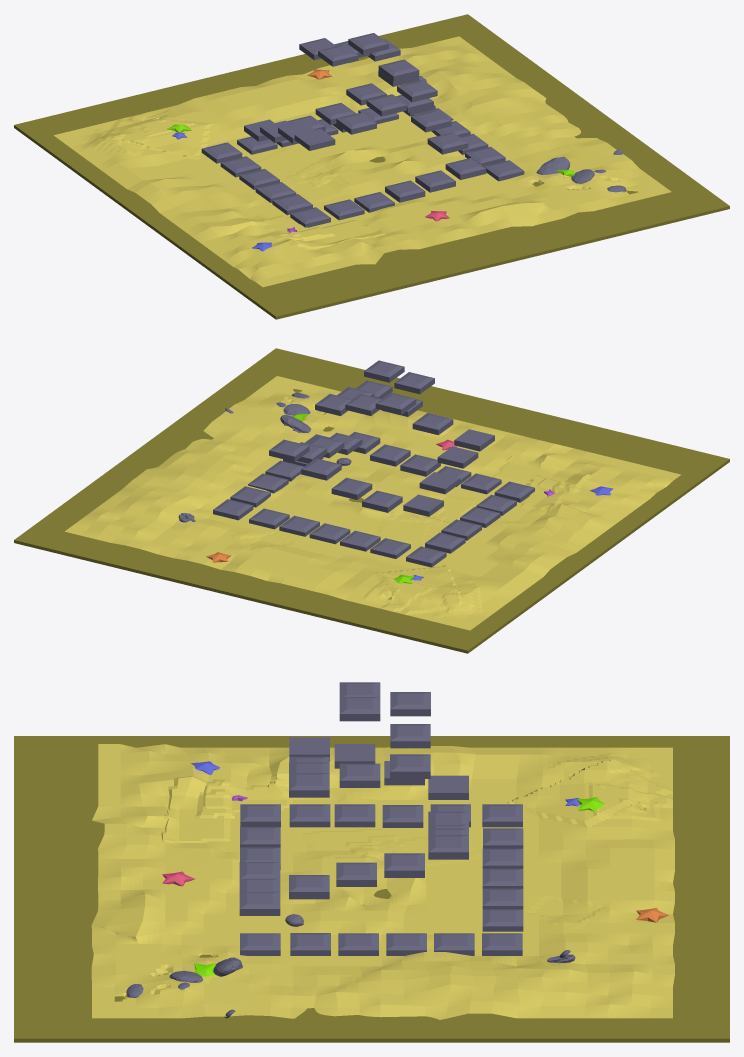
The model's file is map.glb.
3 views of the same model, one above another, from view 1: azimuth 30°, elevation 25°; view 2: azimuth 150°, elevation 25°; view 3: azimuth 270°, elevation 25° (orthographic). The views are drawn at different scales.
Parts seen in each view (by area): view 1: Plane, Cube.037, Cube.041, Cube.022, Cube.043, Cube.039, Cube.017, Cube.025, Cube.033, Cube.018, Cube.019, Cube.042 (+14 smaller); view 2: Plane, Cube.037, Cube.036, Cube.042, Cube.030, Cube.035, Cube.034, Cube.031, Cube.029, Cube.018, Cube.032, Cube.026 (+22 smaller); view 3: Plane, Cube.037, Cube.017, Cube.022, Cube.026, Cube.024, Cube.025, Cube.028, Cube.039, Cube.040, Cube.023, Cube.027 (+25 smaller).
Boxes of the visible parts, x1,y1,x2,y2 form: Plane: (54,36,671,287); Cube.037: (14,14,729,319); Cube.041: (366,94,407,116); Cube.022: (378,59,419,81); Cube.043: (294,128,335,150); Cube.039: (427,132,468,154); Cube.017: (445,157,486,179); Cube.025: (411,110,451,132); Cube.033: (318,44,358,66); Cube.018: (415,170,455,192); Cube.019: (385,180,425,202); Cube.042: (336,112,376,134); Plane: (65,376,680,630); Cube.037: (14,348,729,653); Cube.036: (437,446,478,468); Cube.042: (412,413,453,435); Cube.030: (331,477,372,499); Cube.035: (419,472,460,494); Cube.034: (375,392,416,414); Cube.031: (362,490,402,512); Cube.029: (301,458,341,480); Cube.018: (370,444,410,466); Cube.032: (403,494,443,516); Cube.026: (364,360,404,382); Plane: (91,744,674,1019); Cube.037: (14,736,729,1042); Cube.017: (239,891,280,915); Cube.022: (339,763,380,787); Cube.026: (339,697,380,721); Cube.024: (384,853,424,877); Cube.025: (336,862,376,886); Cube.028: (428,835,468,859); Cube.039: (289,875,329,899); Cube.040: (289,773,329,797); Cube.023: (390,754,430,778); Cube.027: (390,724,430,748).
Size of the model in its own units: 38.41 by 11.39 by 38.41.
